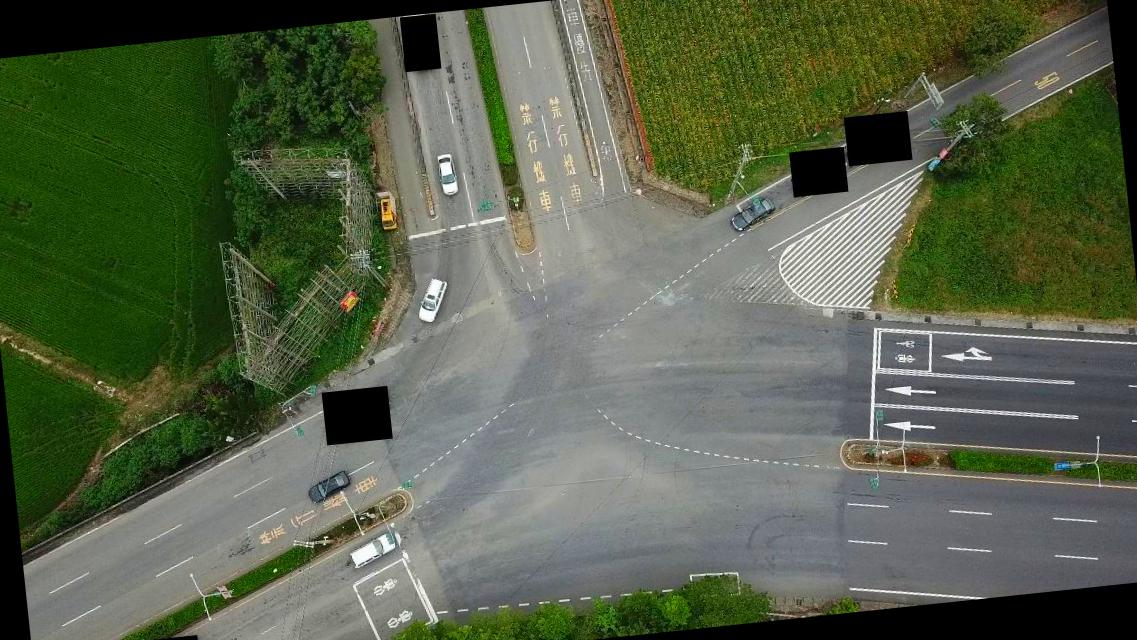vehicle: (346, 530, 398, 566), (413, 274, 450, 324), (728, 194, 776, 232), (306, 469, 356, 502), (437, 150, 460, 198), (377, 194, 399, 230)
